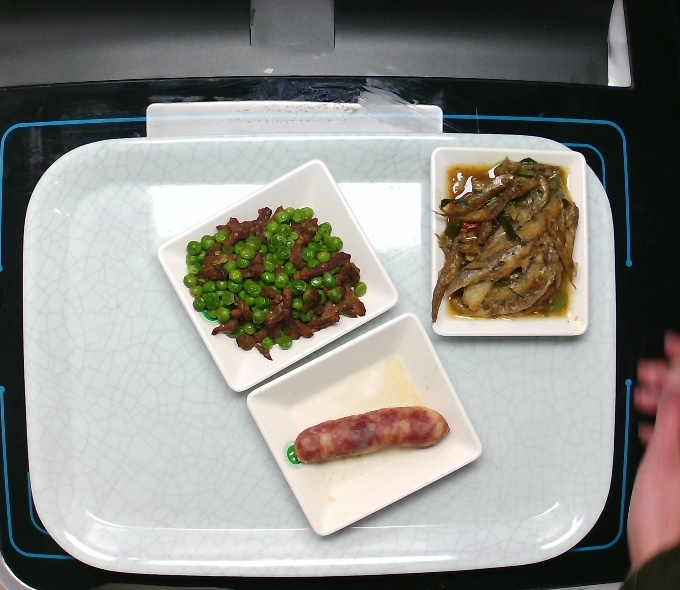wcq-CanDouNiuRou: (178, 201, 372, 364)
wcq-XiangChang: (289, 401, 454, 469)
wcq-XiaoJiYu: (424, 156, 580, 325)
